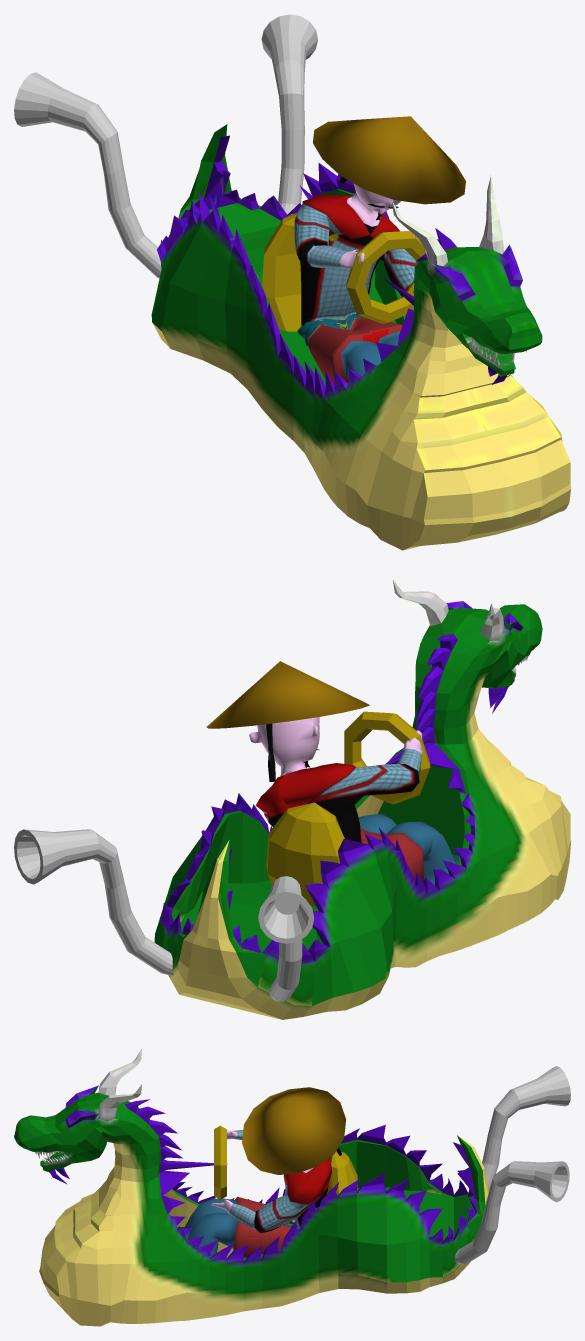
Rendered from ChinoGiroIzq_000190.obj.
3 renders of one model, top to bottom at view 1: azimuth 30°, elevation 25°; view 2: azimuth 150°, elevation 25°; view 3: azimuth 270°, elevation 25°, orthographic. The views are drawn at different scales.
Parts seen in each view (by area): view 1: ChasisChino_ChasisChinoH, Chino_ChinoH, Tubos_TubosH, AsientoChinoMalla_AsientoChinoMH, volanteChino_VolanteChinoH; view 2: ChasisChino_ChasisChinoH, Chino_ChinoH, Tubos_TubosH, AsientoChinoMalla_AsientoChinoMH, volanteChino_VolanteChinoH; view 3: ChasisChino_ChasisChinoH, Chino_ChinoH, Tubos_TubosH, volanteChino_VolanteChinoH, AsientoChinoMalla_AsientoChinoMH.
Part boxes in pixels (left/top/right/bottom): ChasisChino_ChasisChinoH: left=151, top=124, right=570, bottom=550; Chino_ChinoH: left=294, top=116, right=465, bottom=383; Tubos_TubosH: left=14, top=14, right=317, bottom=278; AsientoChinoMalla_AsientoChinoMH: left=262, top=213, right=301, bottom=331; volanteChino_VolanteChinoH: left=346, top=231, right=425, bottom=323; ChasisChino_ChasisChinoH: left=154, top=580, right=570, bottom=1019; Chino_ChinoH: left=206, top=661, right=459, bottom=884; Tubos_TubosH: left=14, top=829, right=314, bottom=1001; AsientoChinoMalla_AsientoChinoMH: left=266, top=802, right=344, bottom=906; volanteChino_VolanteChinoH: left=344, top=711, right=430, bottom=804; ChasisChino_ChasisChinoH: left=14, top=1049, right=489, bottom=1326; Chino_ChinoH: left=177, top=1087, right=345, bottom=1257; Tubos_TubosH: left=455, top=1066, right=570, bottom=1264; volanteChino_VolanteChinoH: left=214, top=1126, right=226, bottom=1199; AsientoChinoMalla_AsientoChinoMH: left=326, top=1151, right=357, bottom=1194.
Size of the model in its own units: 6.15 by 6.07 by 13.3.
